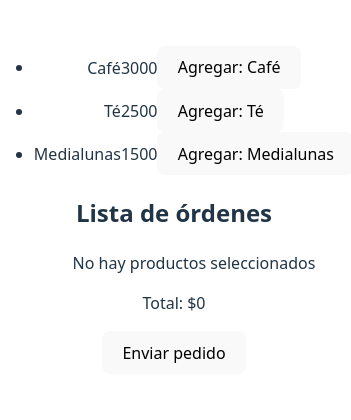
Test: Visualización inicial del menú › H5 - Enviar pedido (MSW + Contexto)
Check: the list item "Café" is shown, box [87,56,121,78]
Click the button "Agregar: Café": x=229, y=67 [158,46,301,89]
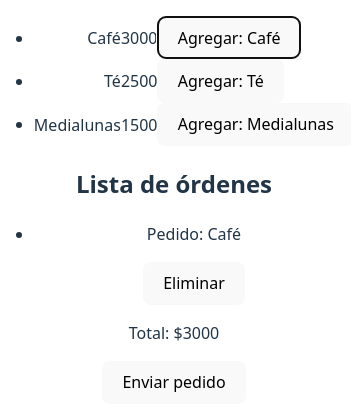
Check: the text "Pedido: Café" is shown, box [147,222,241,244]
Click the button "Enviar pedido": x=174, y=382 [102,361,246,404]
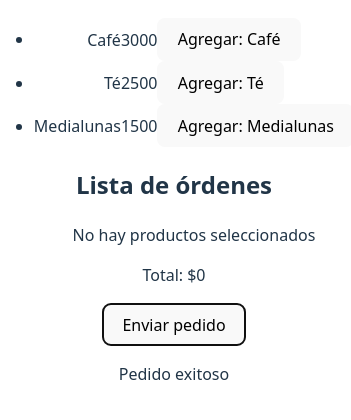
Check: the text "Pedido exitoso" is shown, box [119,363,229,385]
